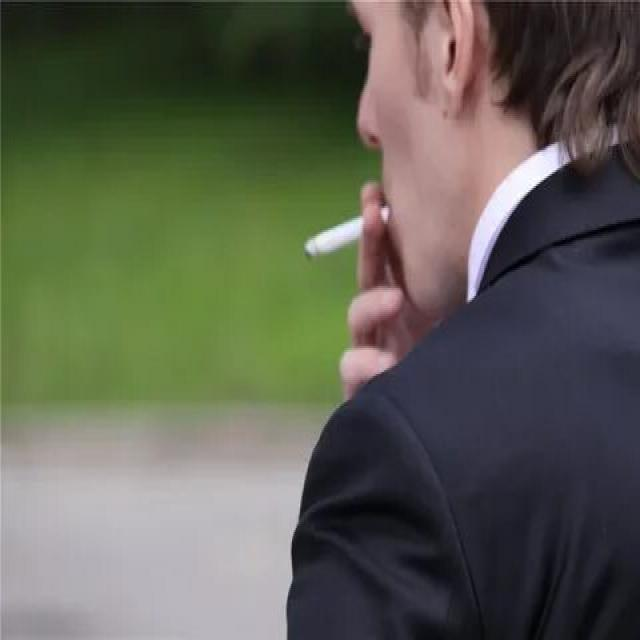smoke: (301, 190, 392, 270)
